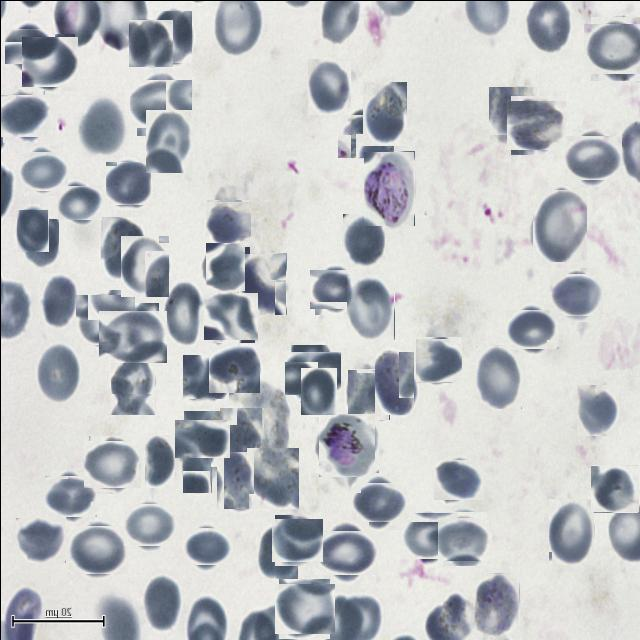difficult: (363, 150, 414, 225), (316, 414, 376, 474)
red blood cell: (532, 189, 586, 261), (102, 306, 162, 366), (246, 447, 298, 508), (132, 76, 188, 132), (346, 274, 394, 339), (276, 580, 331, 636), (120, 234, 169, 296), (548, 498, 594, 564), (587, 19, 640, 76), (238, 252, 286, 314), (110, 348, 155, 414), (145, 109, 192, 172), (475, 344, 521, 408), (318, 524, 372, 578), (71, 522, 125, 576), (78, 292, 132, 346), (508, 98, 562, 152), (22, 35, 76, 88), (100, 216, 144, 281), (362, 81, 406, 145), (35, 341, 80, 403), (474, 572, 519, 634), (402, 509, 454, 562), (78, 96, 124, 155), (163, 280, 204, 346), (86, 438, 138, 490), (204, 290, 256, 341), (219, 406, 264, 464), (374, 350, 414, 414), (208, 342, 259, 392), (568, 132, 618, 182), (287, 347, 337, 397), (340, 110, 390, 160), (307, 59, 350, 114), (439, 514, 488, 562), (354, 478, 402, 526), (552, 270, 600, 318), (488, 86, 536, 134), (178, 414, 226, 462), (272, 516, 320, 564), (15, 516, 65, 562), (590, 464, 637, 512), (342, 213, 384, 266), (47, 472, 94, 519), (0, 91, 47, 138), (216, 450, 254, 508), (257, 523, 297, 578), (39, 272, 77, 329), (508, 306, 555, 352), (126, 501, 172, 548), (128, 18, 173, 66), (576, 384, 618, 435), (346, 368, 388, 419), (142, 574, 180, 630), (152, 9, 192, 62), (434, 456, 480, 502), (106, 160, 150, 206), (416, 336, 460, 382), (182, 354, 228, 398), (312, 266, 356, 311), (184, 524, 229, 568), (18, 218, 58, 267), (20, 148, 64, 192), (203, 244, 247, 288), (205, 200, 249, 243), (8, 24, 50, 66), (300, 367, 336, 414), (58, 182, 98, 222), (144, 434, 174, 487), (182, 443, 211, 492), (15, 208, 48, 251)
